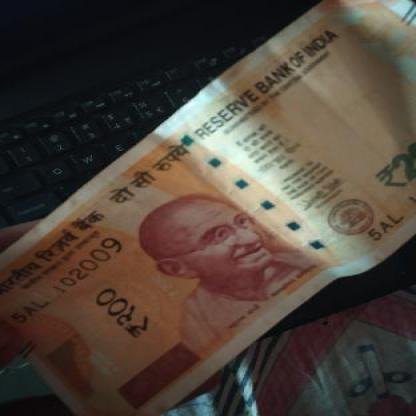New200Front: (0, 0, 415, 390)
